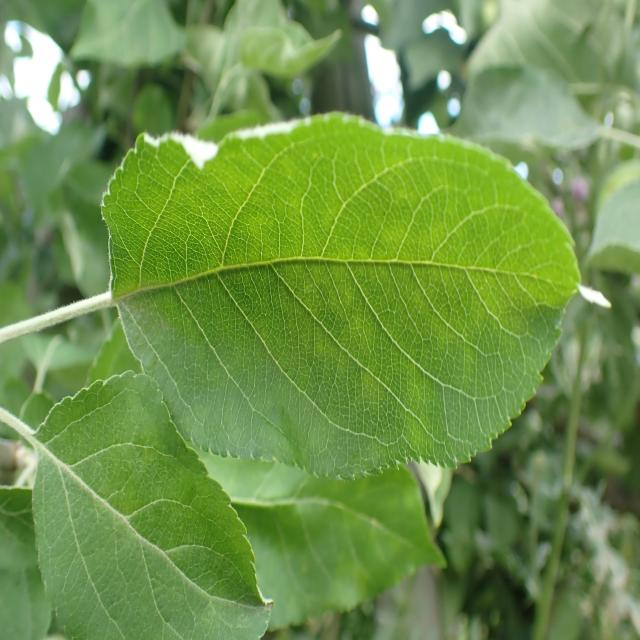healthy: (100, 111, 582, 482), (31, 368, 273, 640)
